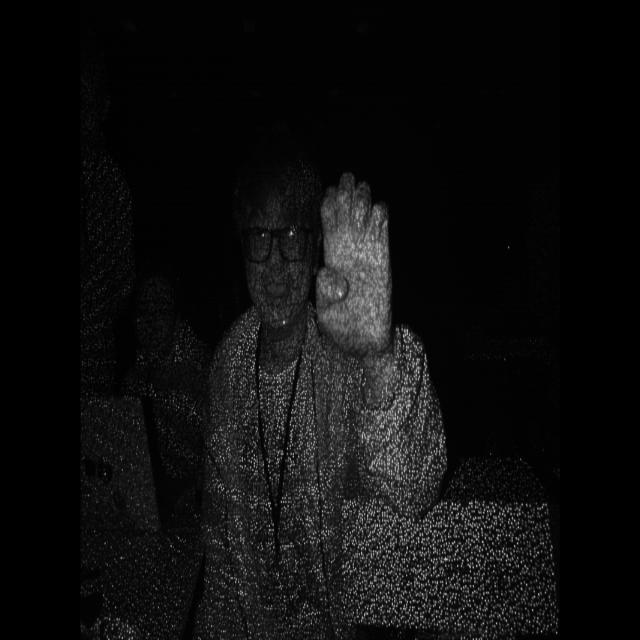E: (308, 151, 410, 386)
